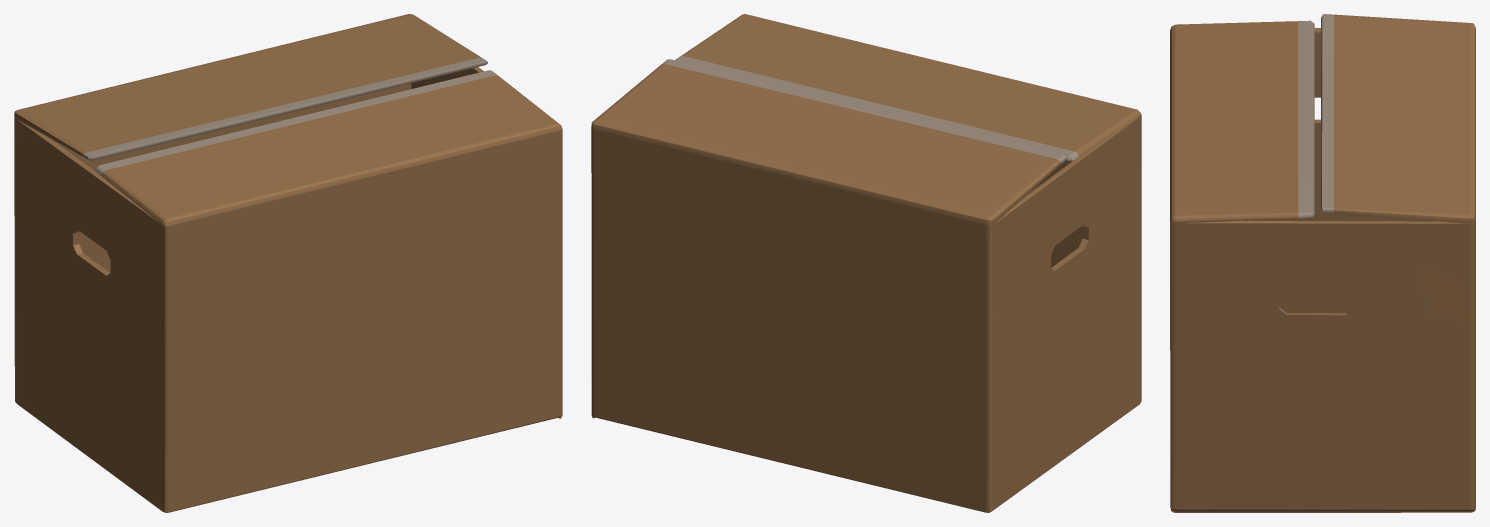
File: PaperBox.fbx
3 renders of one model, left to right at view 1: azimuth 30°, elevation 25°; view 2: azimuth 150°, elevation 25°; view 3: azimuth 270°, elevation 25°, orthographic.
Visible parts, largest first — view 1: paperBox; view 2: paperBox; view 3: paperBox.
Part boxes in pixels (left/top/right/bottom): paperBox: left=14, top=14, right=562, bottom=512; paperBox: left=591, top=14, right=1141, bottom=512; paperBox: left=1170, top=14, right=1475, bottom=512.
Bounding box in the file's own units: 5.1 × 3.71 × 3.37.
